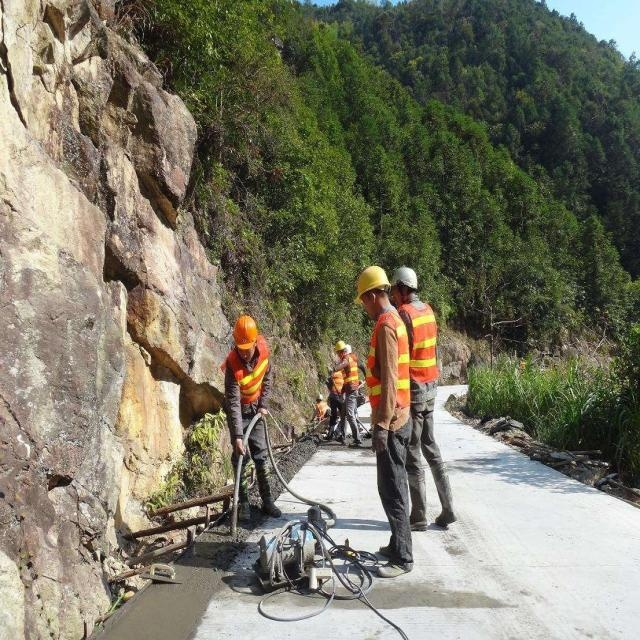Con_Casco: (354, 265, 390, 308), (392, 265, 420, 301)
Con_Chaleco: (362, 309, 413, 430), (396, 303, 441, 385)
